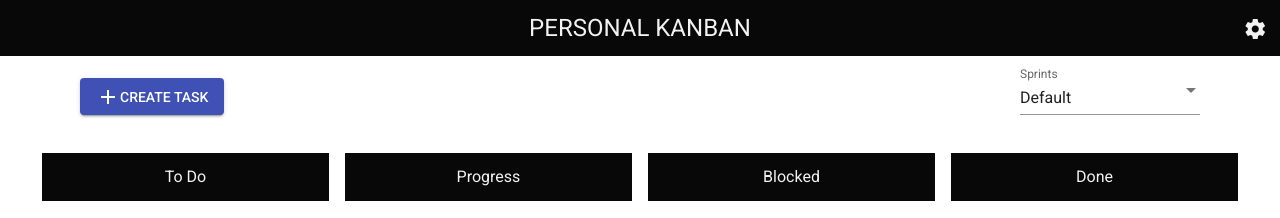
Scenario: kanban app › Should have menu options
Click the picture in the row of "PERSONAL KANBAN": (1255,29) x1=1243 y1=17 x2=1267 y2=41
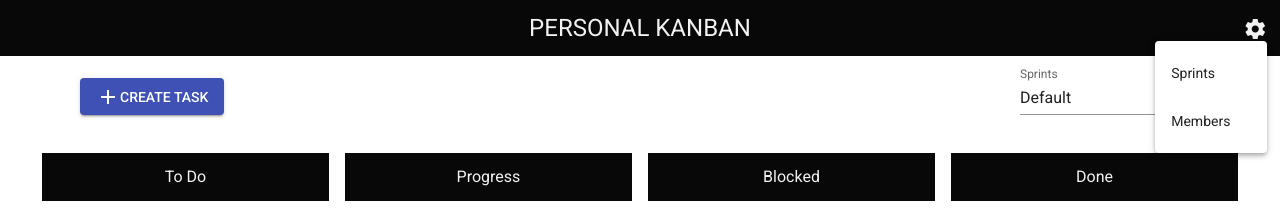
Expected: the element showing "Sprints Members" is shown, x1=1155 y1=41 x2=1267 y2=153
